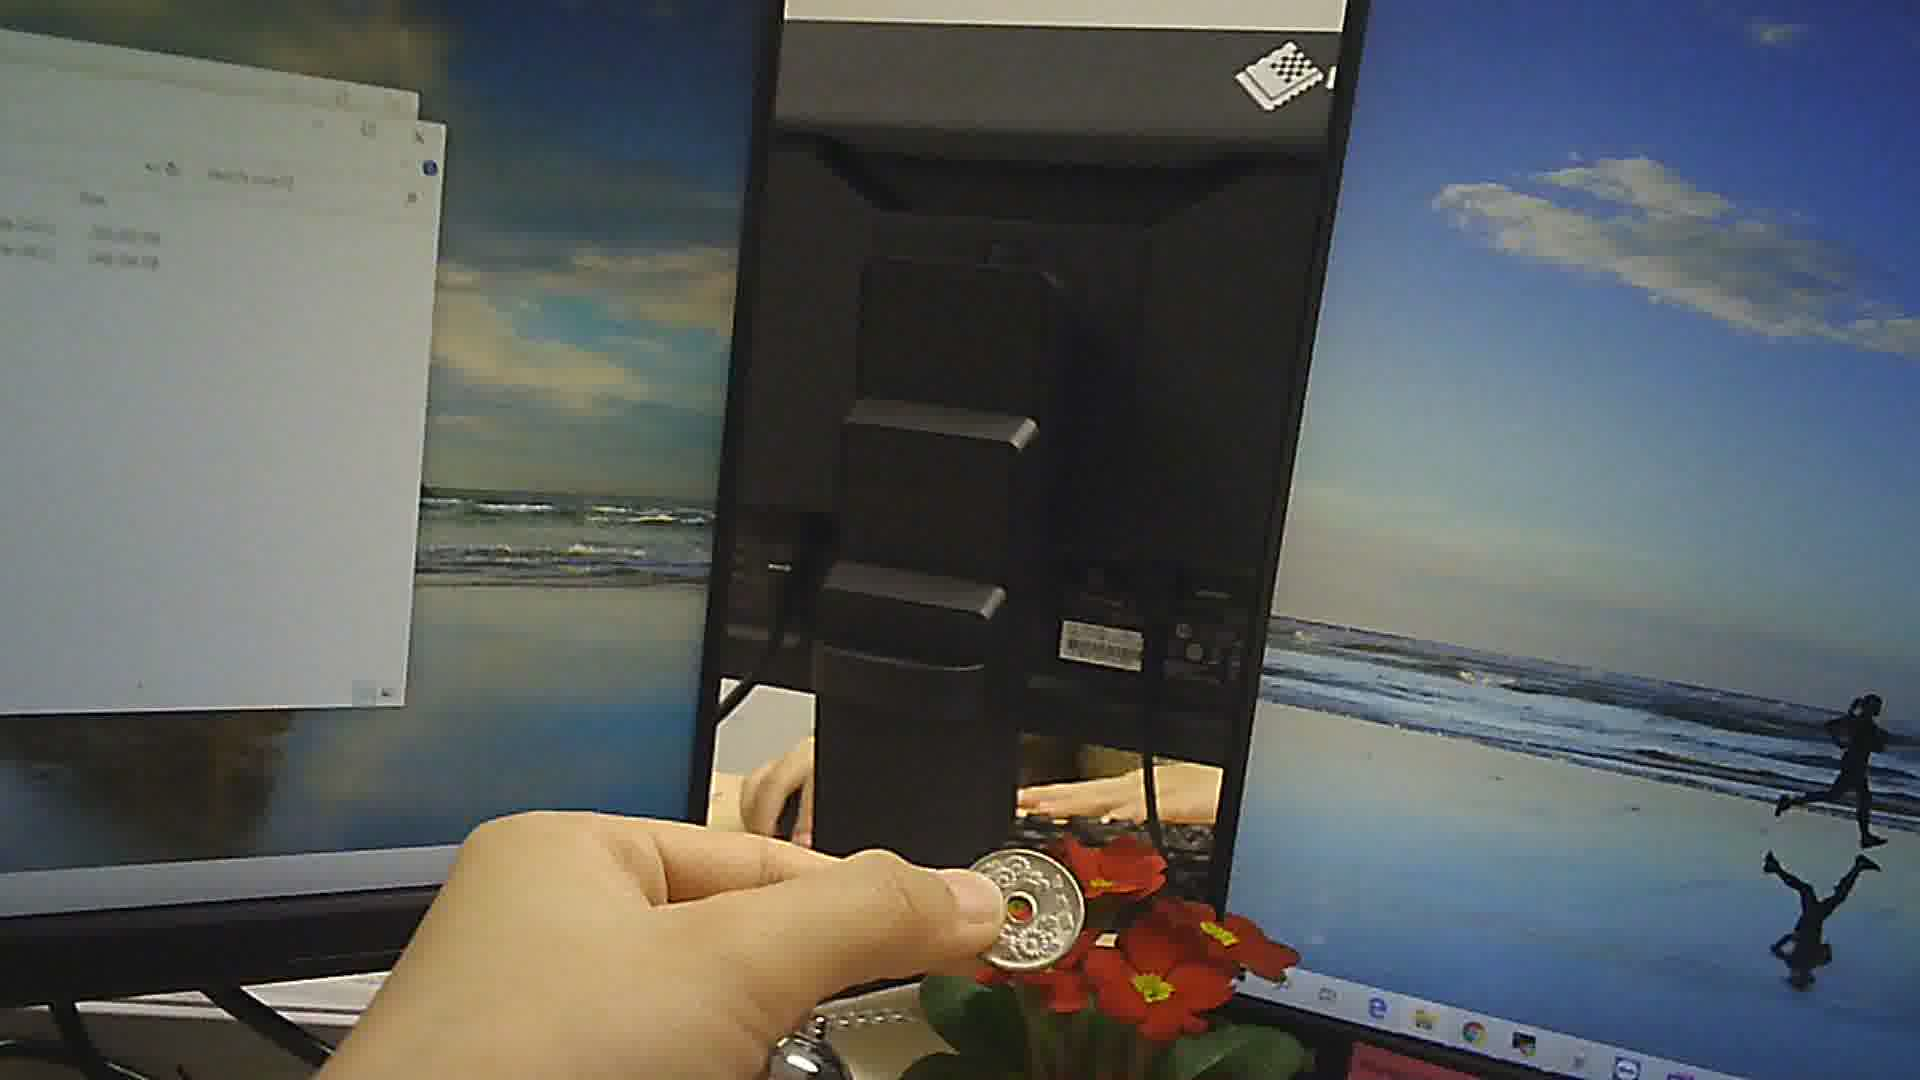50 Yen: (952, 839, 1087, 972)
